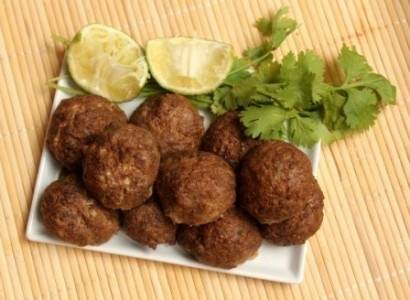background: (25, 2, 254, 126)
